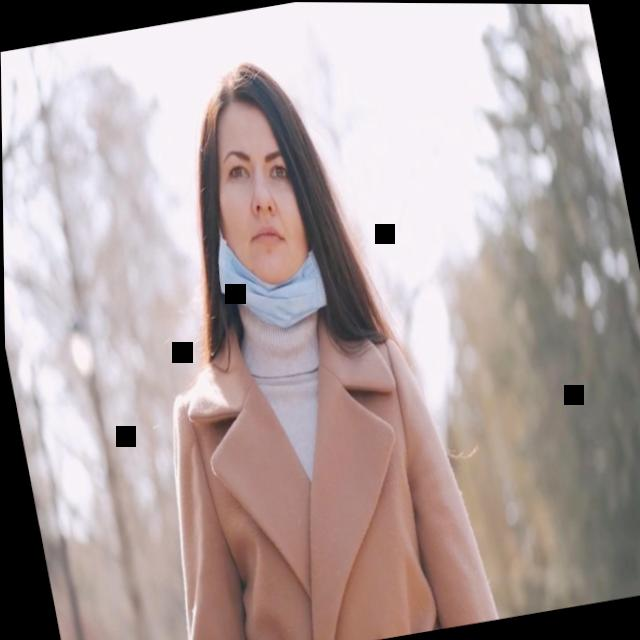NO-Mask: (198, 123, 324, 333)
